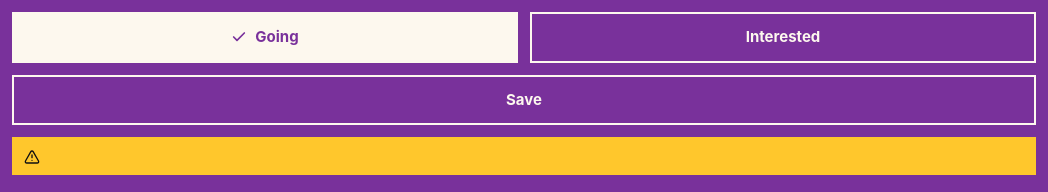
RsvpButtons › turns Going off when clicked again
Click the button "Going" at (265, 37), box 12,12 -> 518,62
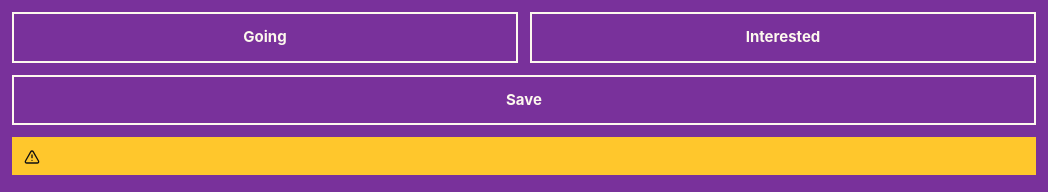
Check: the button "Going" is not pressed, box 12,12 -> 518,62
